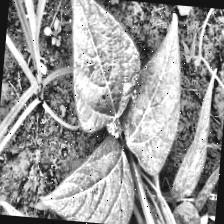ALS: (118, 11, 187, 169), (36, 129, 138, 224)
